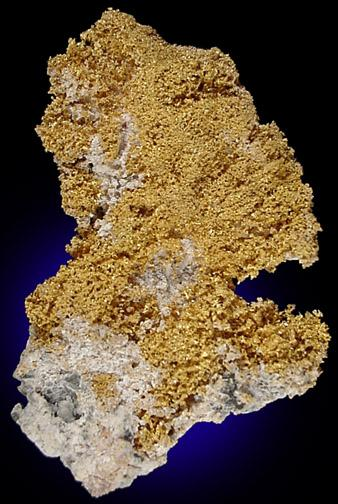gold: (26, 12, 329, 457), (60, 166, 100, 228)
